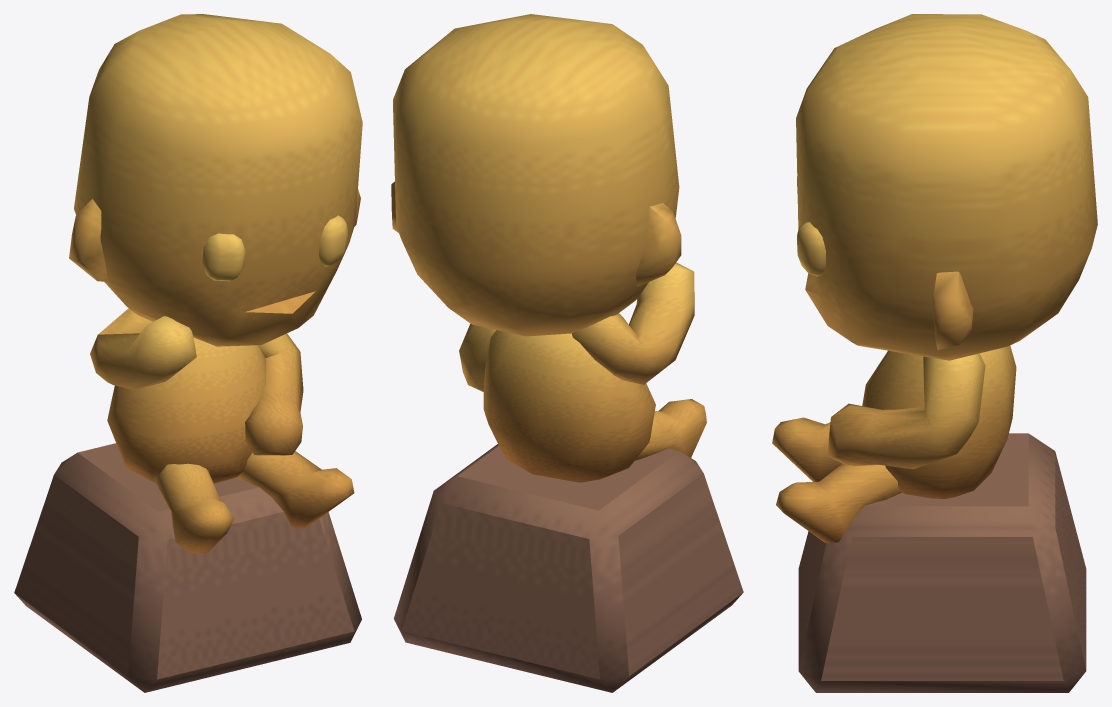
The model's file is idol-b.glb.
3 views of the same model, side by side, from view 1: azimuth 30°, elevation 25°; view 2: azimuth 150°, elevation 25°; view 3: azimuth 270°, elevation 25° (orthographic). The views are drawn at different scales.
Parts seen in each view (by area): view 1: idol_B; view 2: idol_B; view 3: idol_B.
Boxes of the visible parts, x1=… form: idol_B: x1=14, y1=14, x2=362, y2=692; idol_B: x1=391, y1=14, x2=743, y2=692; idol_B: x1=772, y1=14, x2=1097, y2=692.
Bounding box in the file's own units: 0.3832 × 0.7334 × 0.3503.
Materials: 1 (1 with a texture image).
